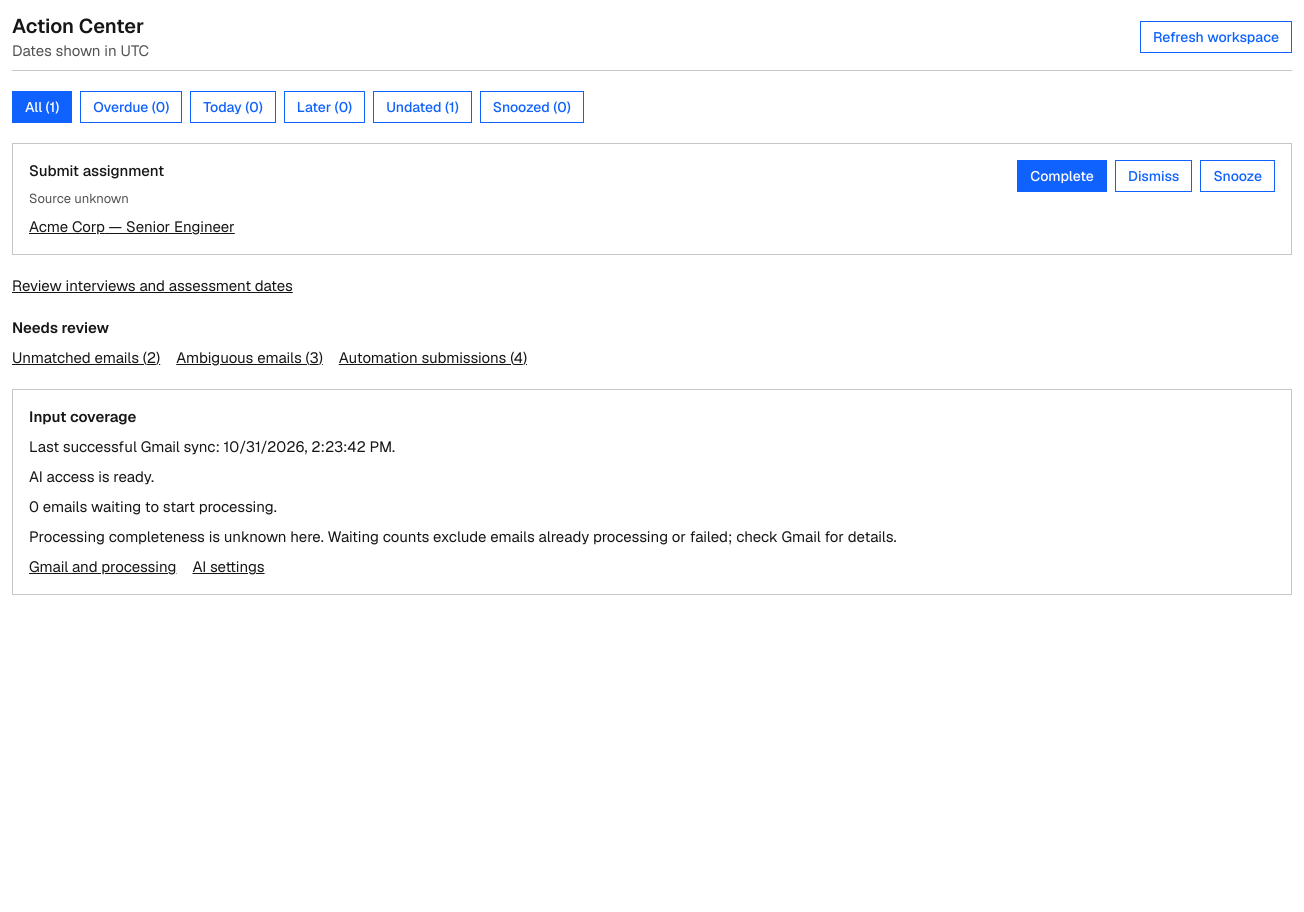
Test: daily workspace › reconciles a lost write response without replaying it
Click the button "Complete" at (1062, 176), box [1017,160,1107,192]
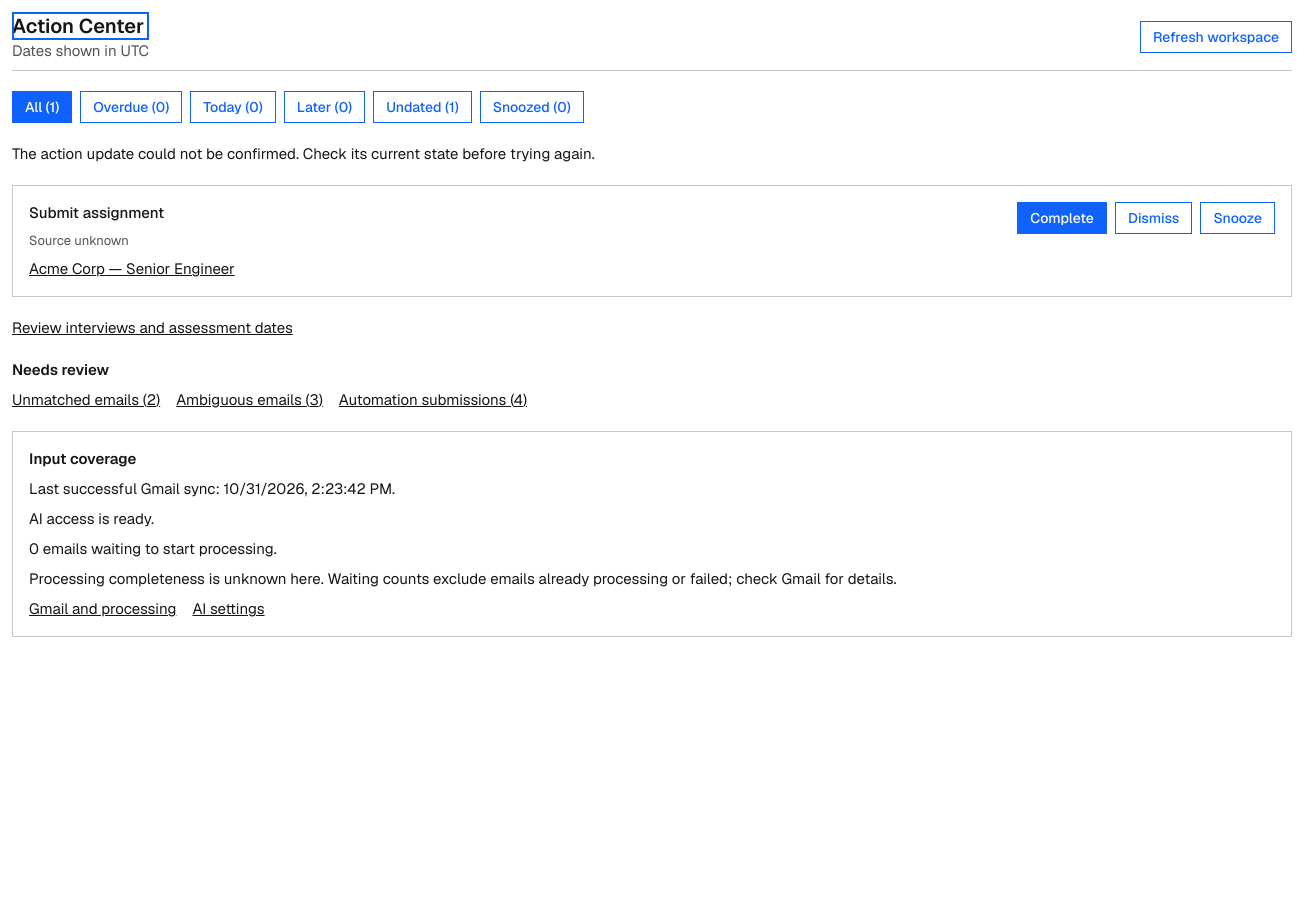
Expected: the text "action update could not be confirmed" is shown, [12,144,595,163]
